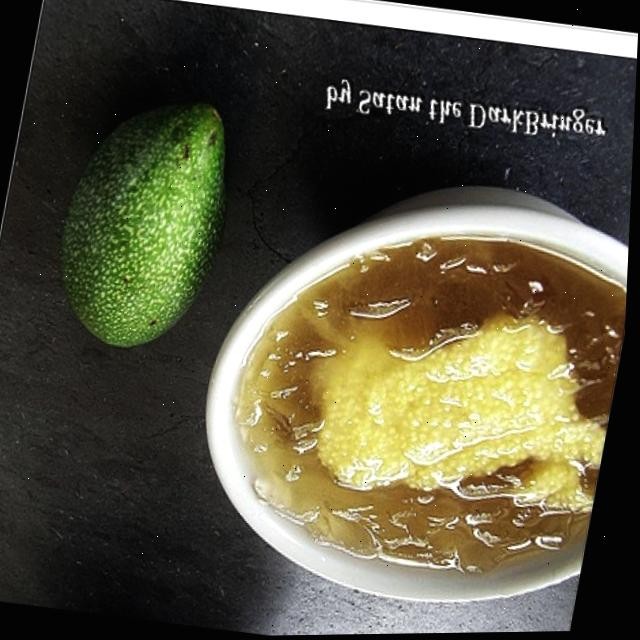蛋糕甜品: (150, 149, 635, 636)
